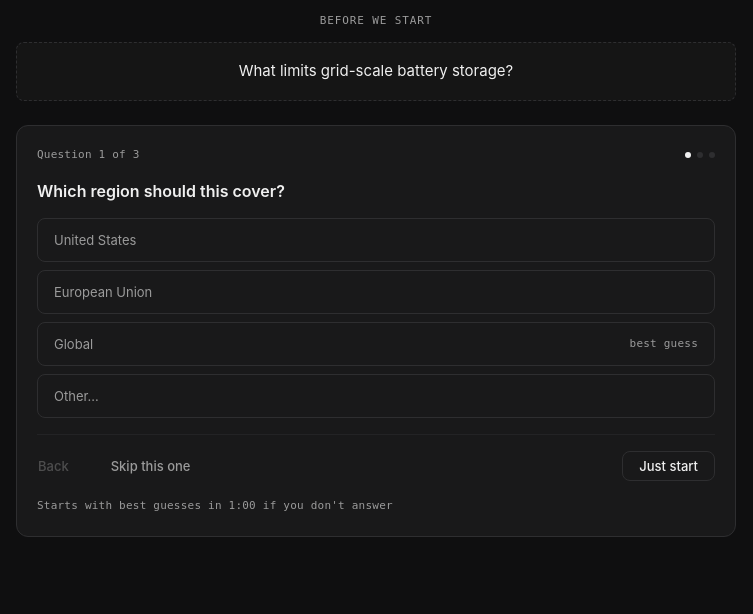
ClarifyStage — the card › posts the answers once after the last question and shows the summary
The image size is (753, 614).
Click the button "United States".
click(95, 240)  # box left=37, top=218, right=715, bottom=262
Wait 240 ms
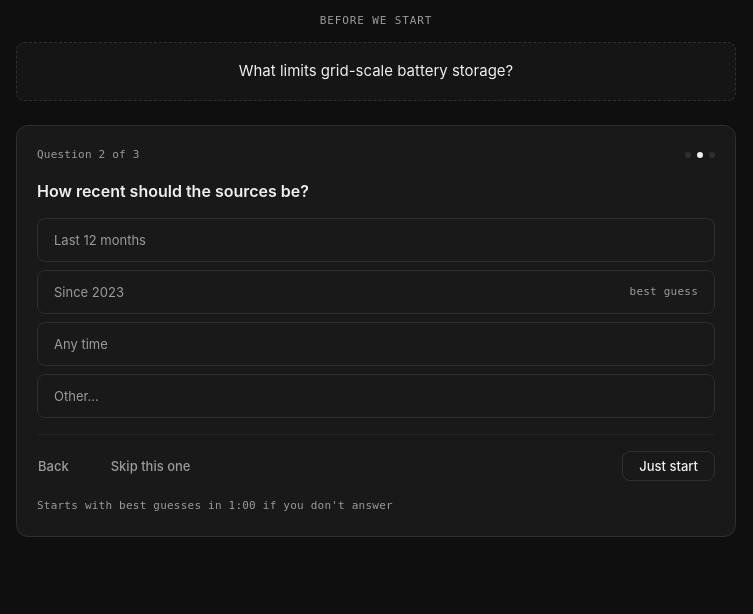
Click the button "Other…".
click(76, 396)  # box left=37, top=374, right=715, bottom=418
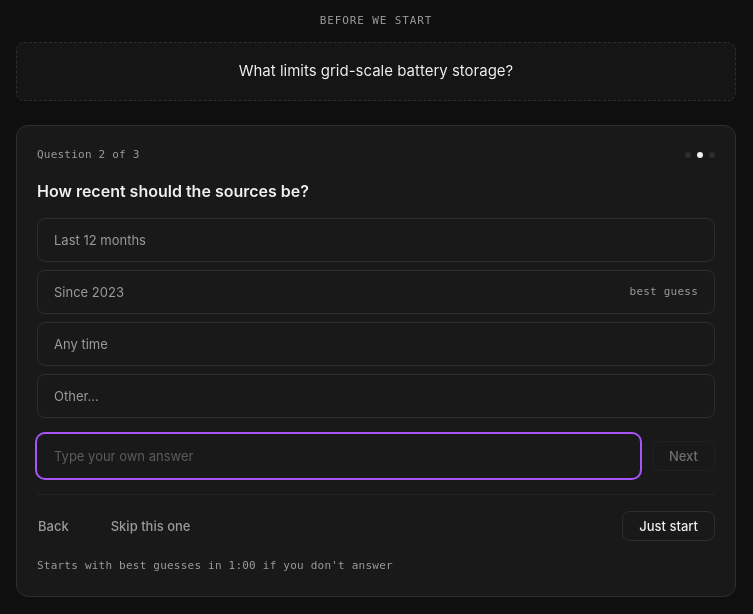
Type "since 2021" into the field labelled "your own answer".
click(338, 456); type("since 2021")  # box left=37, top=434, right=640, bottom=478
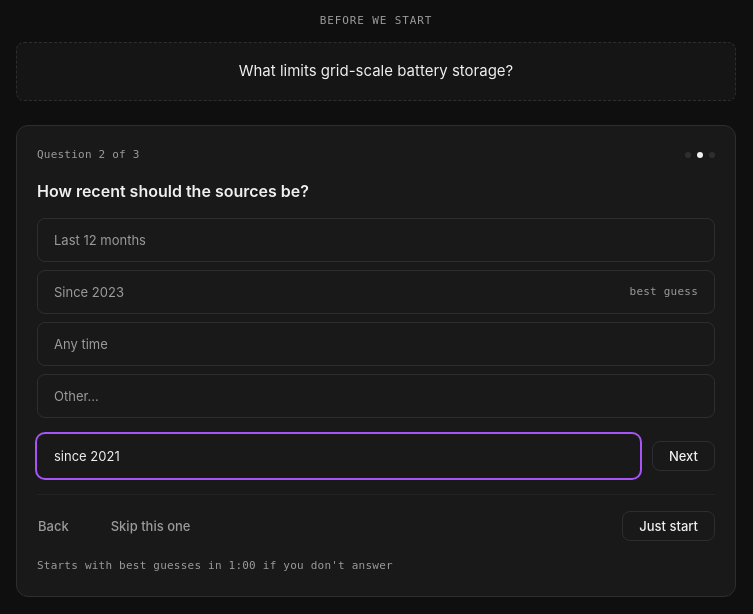
Click the button "Next".
click(683, 456)  # box left=652, top=441, right=715, bottom=471
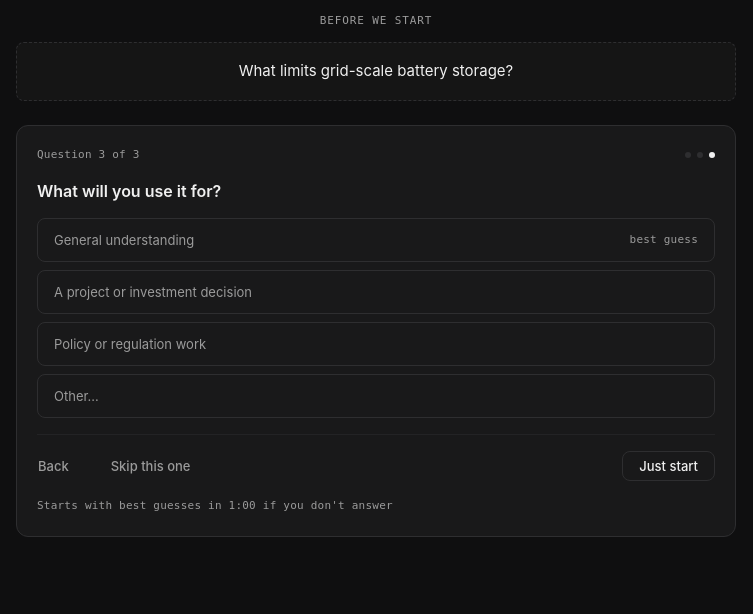
Click the button "Skip this one".
click(151, 466)  # box left=94, top=451, right=208, bottom=481
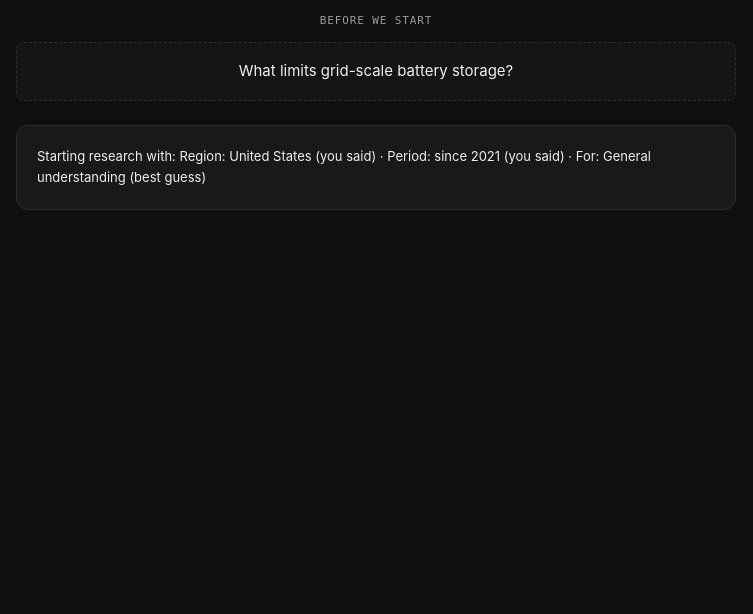
Now the text with id "clarifySummary" shows "Starting research with: Region: United States (you said) · Period: since 2021 (you said) · For: General understanding (best guess)", box left=37, top=148, right=651, bottom=185
